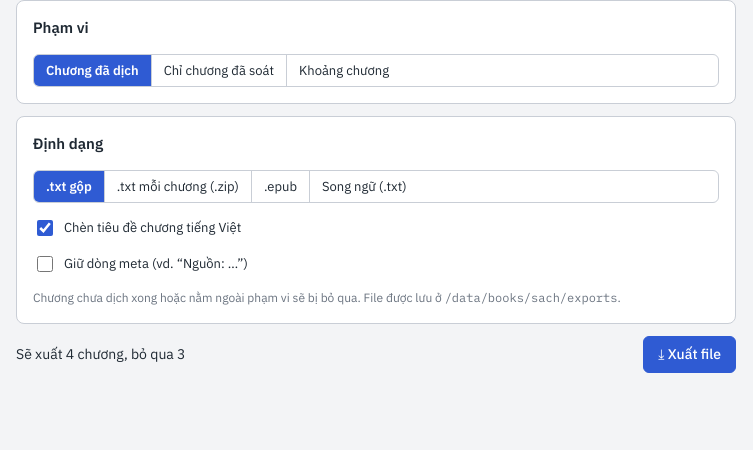
Test: báo "Sẽ xuất N chương, bỏ qua M", xuất theo tuỳ chọn rồi tự tải file (BR-3.15, BR-3.16)
Expected: the text "Sẽ xuất 4 chương, bỏ qua 3" is shown, [16, 345, 186, 363]
What coordinates should you click on to do the following:
click the button "Chỉ chương đã soát"
I would click on:
 (218, 70)
Its box is [151, 54, 286, 86].
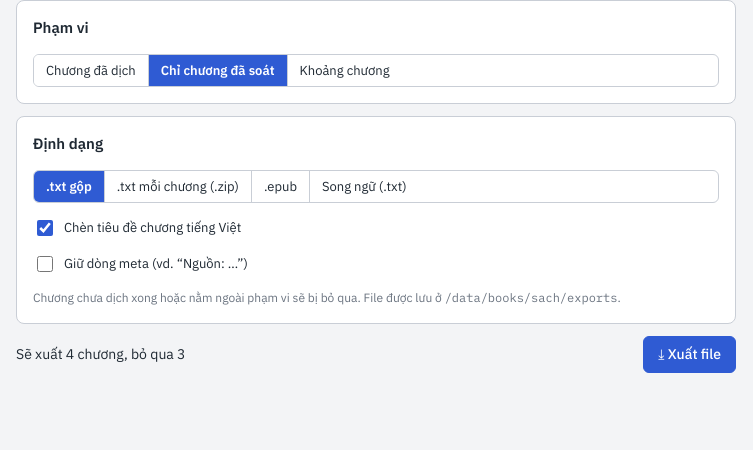
What coordinates should you click on to do the following:
click the button ".epub"
I would click on:
 (280, 186)
Its box is [251, 170, 309, 202].
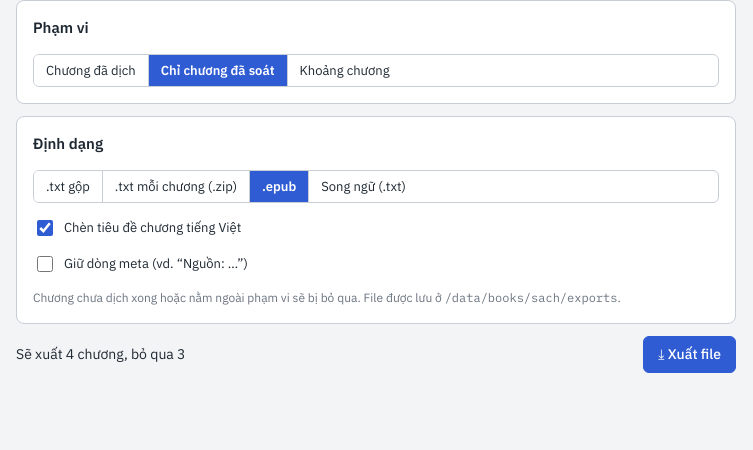
What coordinates should you click on to do the following:
click the checkbox labelled "Chèn tiêu đề chương tiếng Việt"
I would click on:
 (45, 228)
Its box is [37, 220, 53, 236].
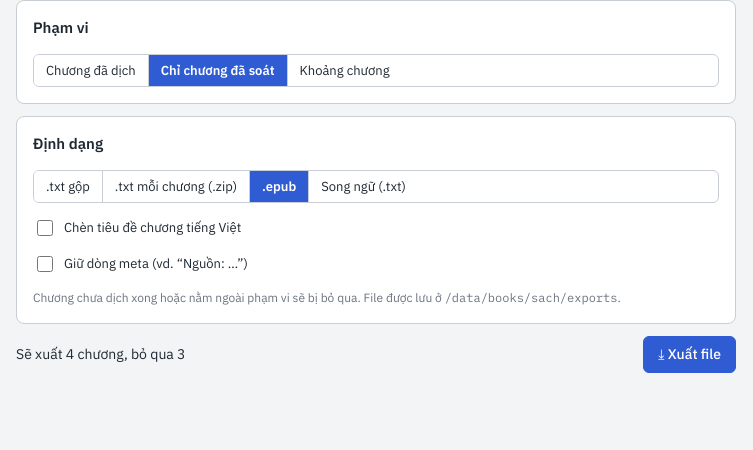
What coordinates should you click on to do the following:
click the checkbox labelled "Giữ dòng meta (vd. “Nguồn: …”)"
I would click on:
 (45, 264)
Its box is [37, 256, 53, 272].
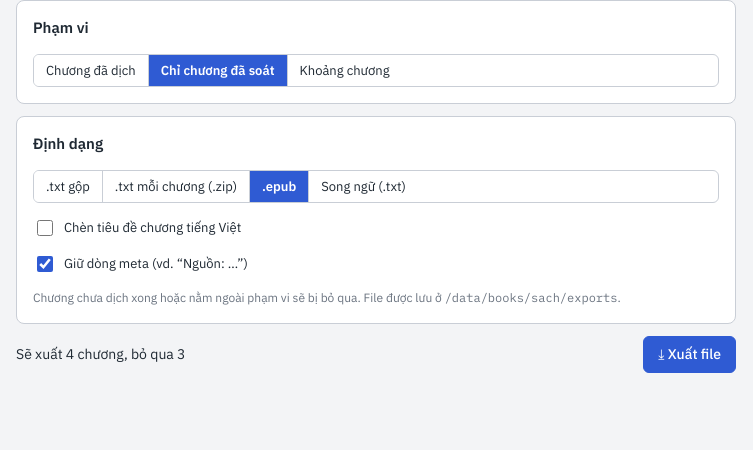
What coordinates should you click on to do the following:
click the button "⤓ Xuất file"
I would click on:
 (690, 354)
Its box is [643, 336, 736, 373].
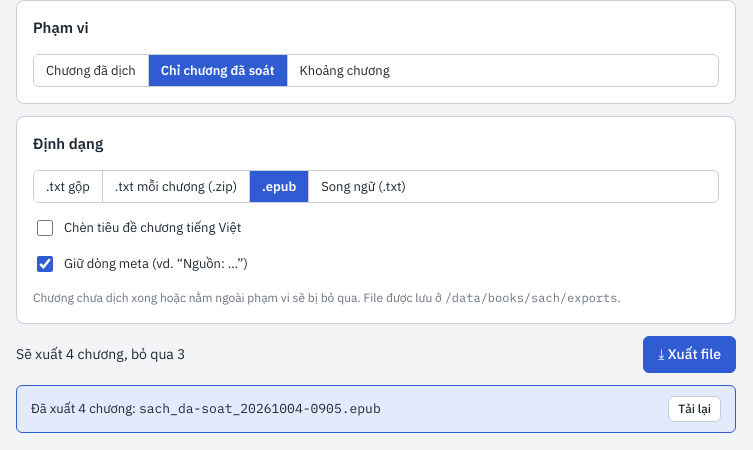
Expected: the text "Đã xuất 4 chương: sach_da-soat_20261004-0905.epub" is shown, [31, 400, 381, 417]
